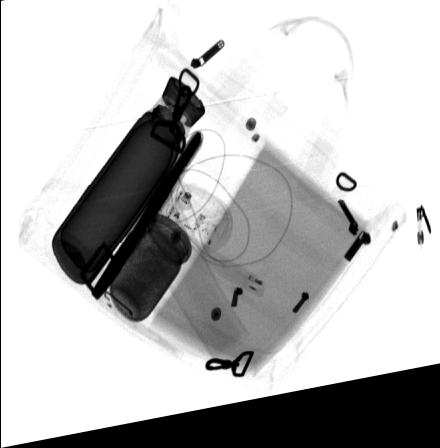Pliers: (90, 136, 203, 307)
